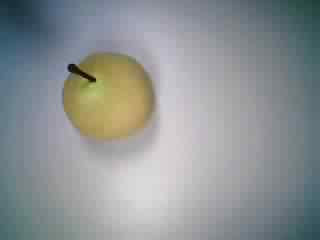pear: (54, 45, 161, 157)
